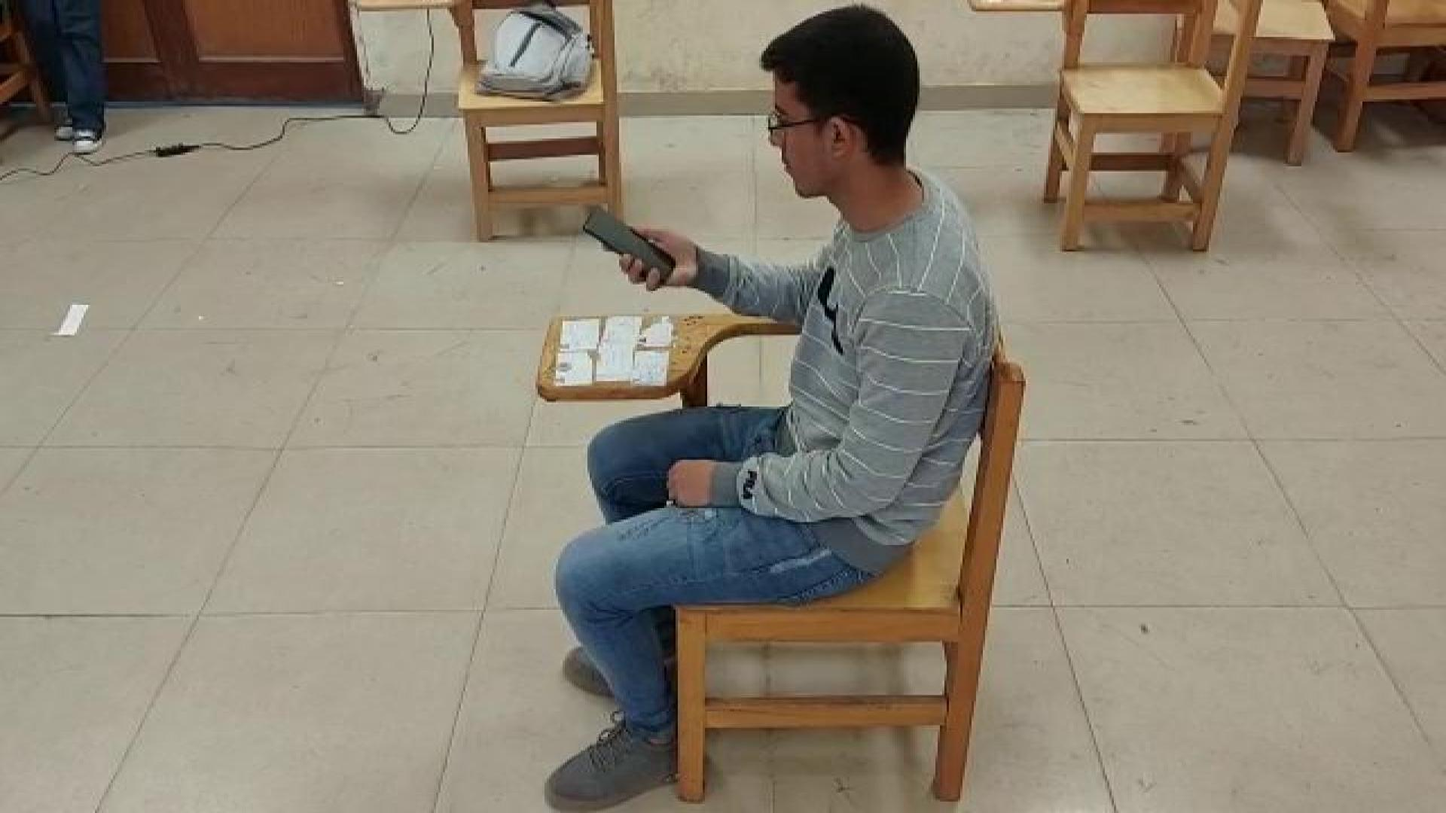phone: (583, 201, 678, 285)
